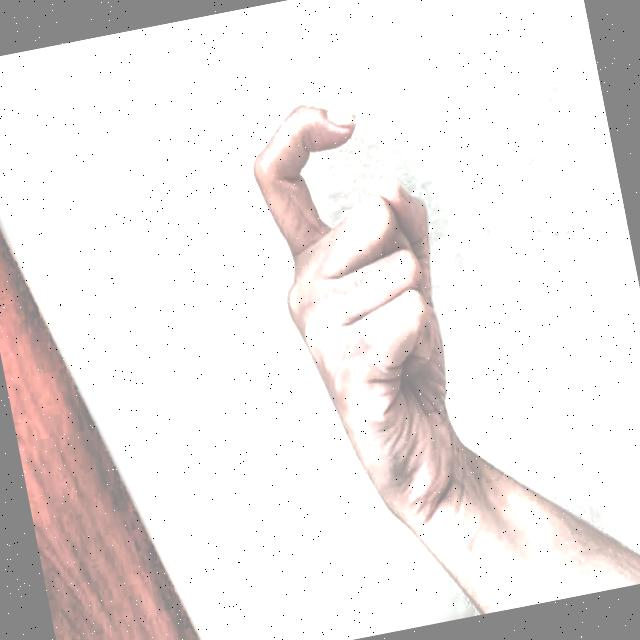E: (215, 37, 560, 566)
